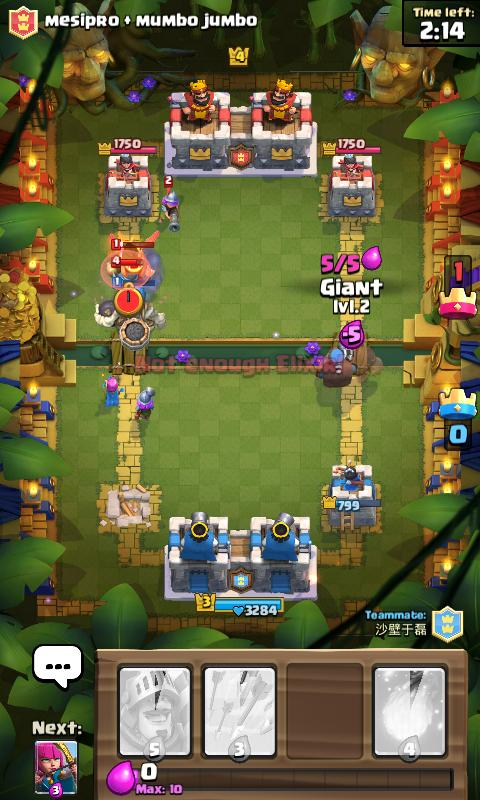ally_archer: (99, 372, 123, 407)
ally_giant_skeleton: (93, 275, 166, 350)
ally_hunter: (314, 343, 357, 387)
enemy_baby_dragon: (109, 229, 158, 277)
enemy_musketeer: (157, 174, 180, 232)
